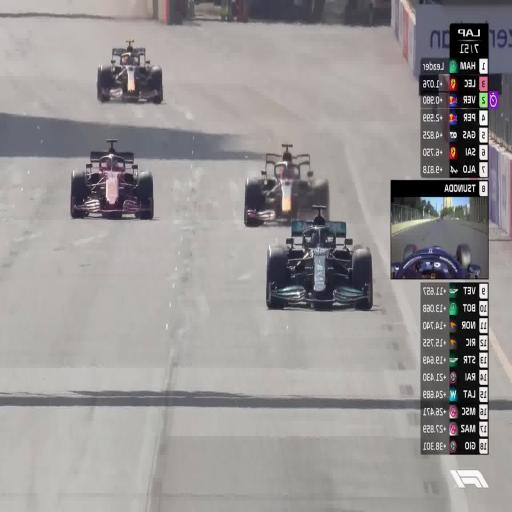f1_car: (266, 205, 373, 309), (244, 144, 330, 225), (70, 139, 154, 218), (97, 40, 163, 103), (391, 244, 480, 278)
